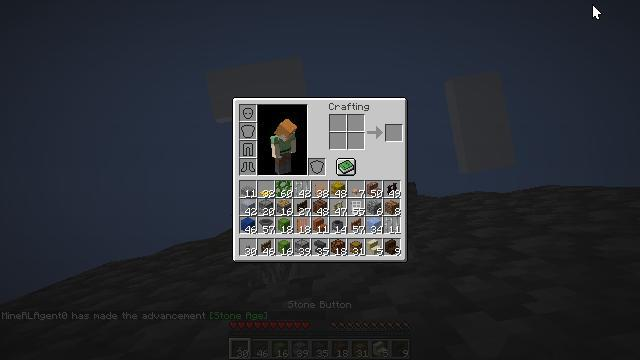cursor: (592, 4, 602, 20)
